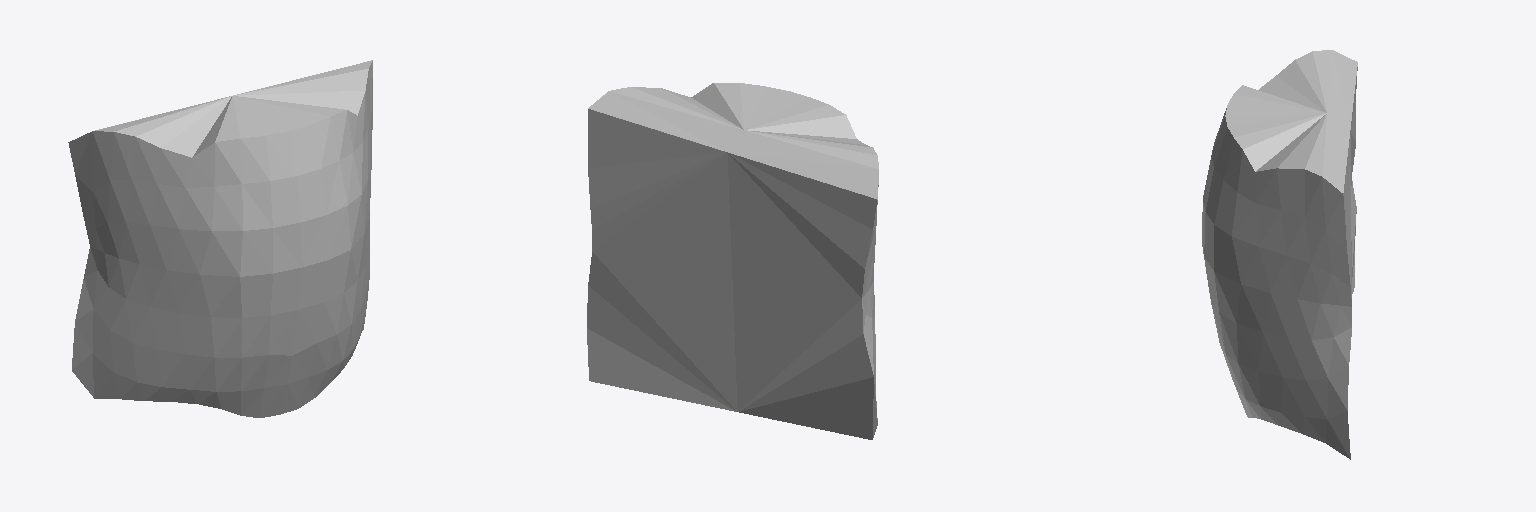
The model's file is teethCollisionProxy.obj.
The picture shows the model from 3 angles: view 1: azimuth 30°, elevation 25°; view 2: azimuth 150°, elevation 25°; view 3: azimuth 270°, elevation 25°; orthographic projection.
Parts seen in each view (by area): view 1: teethEllipsoid; view 2: teethEllipsoid; view 3: teethEllipsoid.
Part boxes in pixels (x1,y1,x2,y2): teethEllipsoid: (68,60,372,417); teethEllipsoid: (587,83,878,439); teethEllipsoid: (1202,50,1357,459).
Bounding box in the file's own units: 3.97 × 3.78 × 1.81.